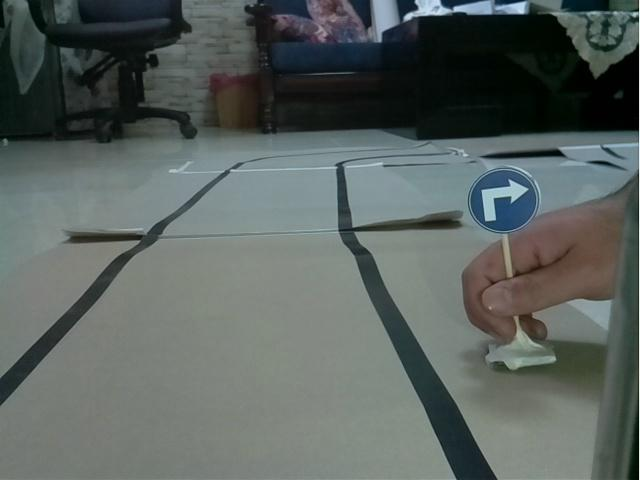turn: (465, 168, 542, 233)
